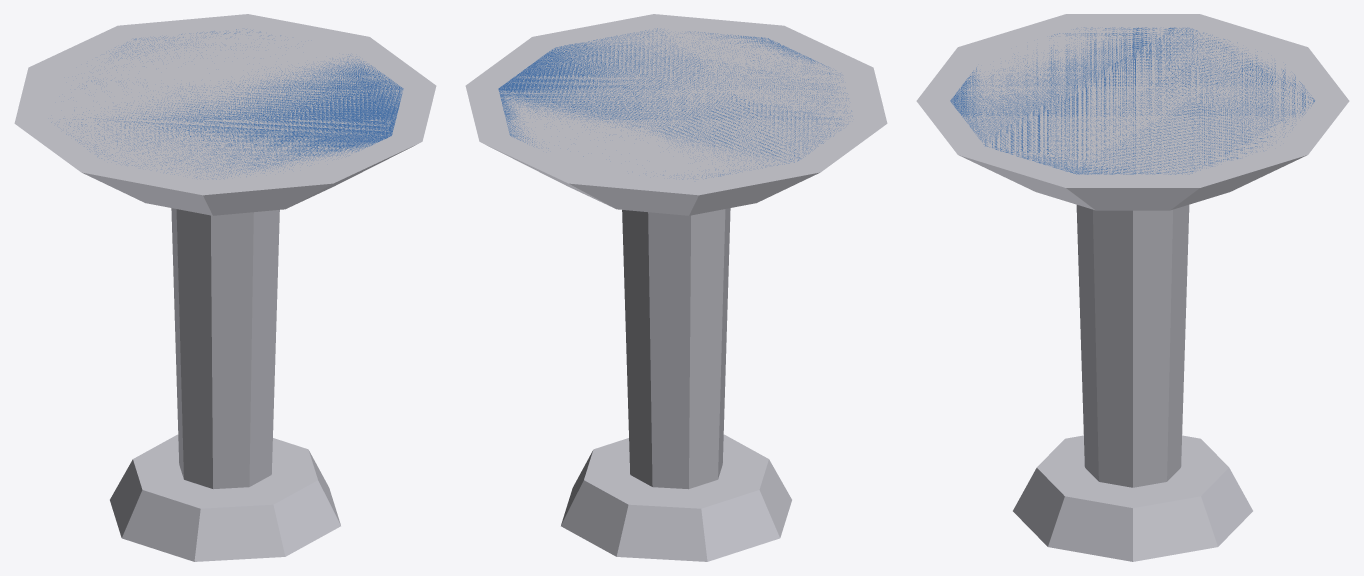
File: birdbath.glb
3 renders of one model, left to right at view 1: azimuth 30°, elevation 25°; view 2: azimuth 150°, elevation 25°; view 3: azimuth 270°, elevation 25°, orthographic.
Parts seen in each view (by area): view 1: birdbath; view 2: birdbath; view 3: birdbath.
Part boxes in pixels (<box>): birdbath: <box>14,14,436,561</box>; birdbath: <box>465,14,887,561</box>; birdbath: <box>916,14,1349,561</box>.
Bounding box in the file's own units: 0.856 × 0.94 × 0.9.
